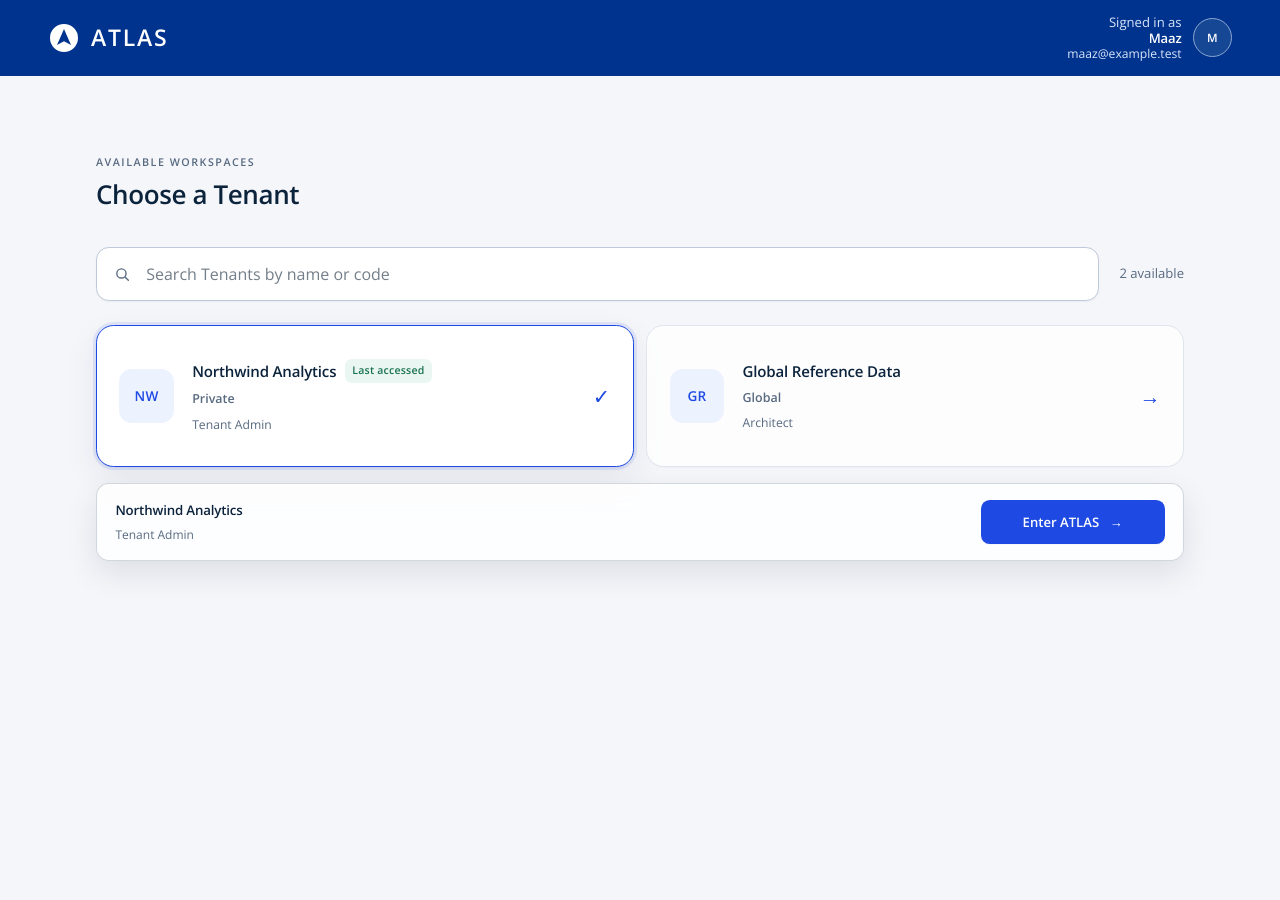
it: tenant entry › selects the last Tenant and enters its governed workspace
Check: the heading "Choose a Tenant" is shown, box [96,176,299,212]
Check: the text "Signed in as" is shown, box [1109,14,1182,30]
What coordinates should you click on to do the following:
click the button "Enter ATLAS →"
I would click on:
 (1073, 522)
Its box is [981,500,1165,544].
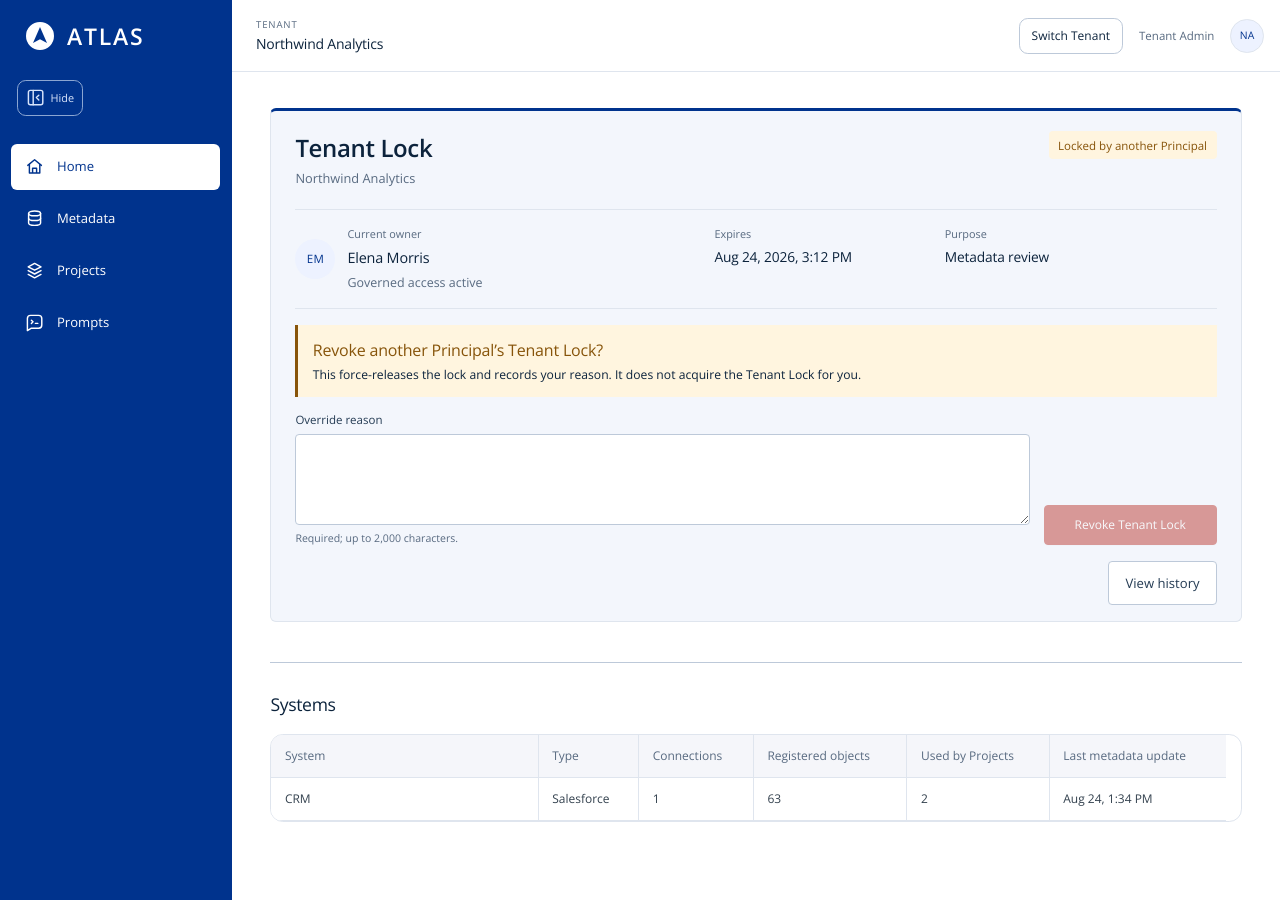
Check: the heading "Tenant Lock" is shown, box [295,131,432,165]
